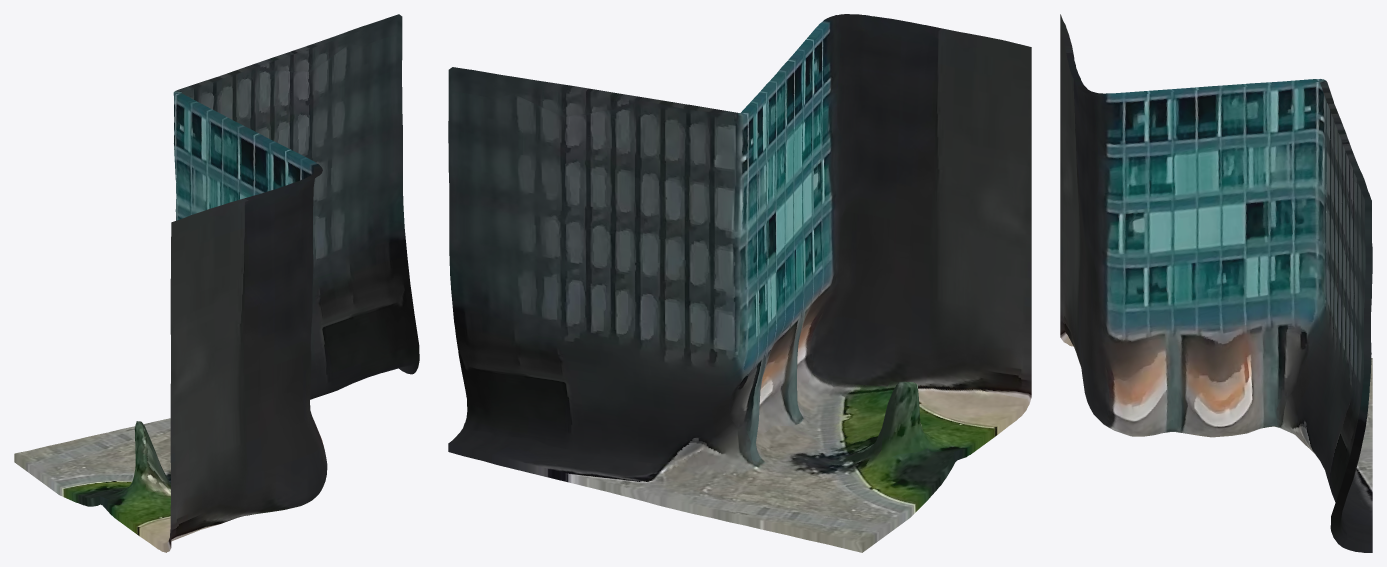
Rendered from z20-167771-405237-h0-yup-uvflip-v3-world.glb.
3 renders of one model, left to right at view 1: azimuth 30°, elevation 25°; view 2: azimuth 150°, elevation 25°; view 3: azimuth 270°, elevation 25°, orthographic. The views are drawn at different scales.
Size of the model in its own units: 30.16 by 26.76 by 21.36.
1 material, 1 textured.
